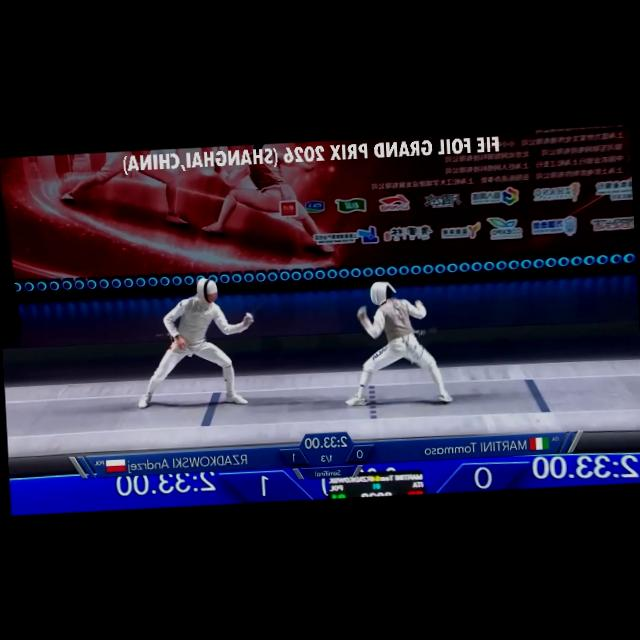blade: (237, 294, 272, 327)
